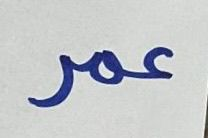ain: (131, 42, 178, 84)
meem: (79, 45, 128, 88)
reh: (24, 50, 77, 110)
